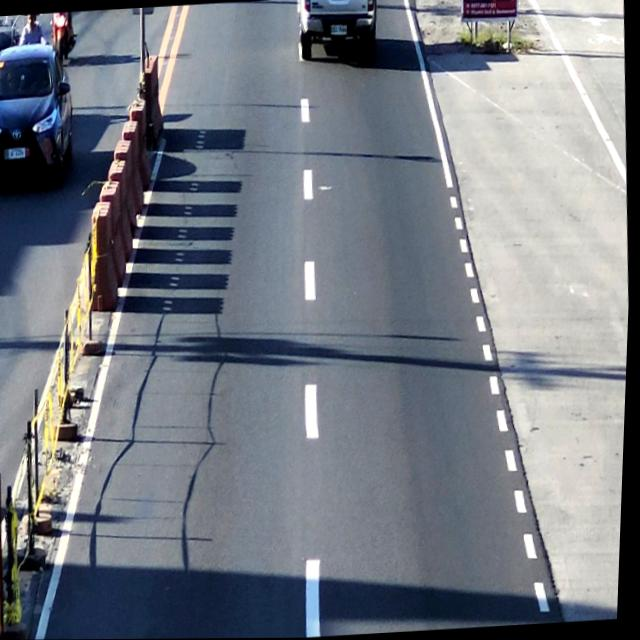Car: (294, 0, 383, 60)
License-Plate: (329, 19, 349, 39)
